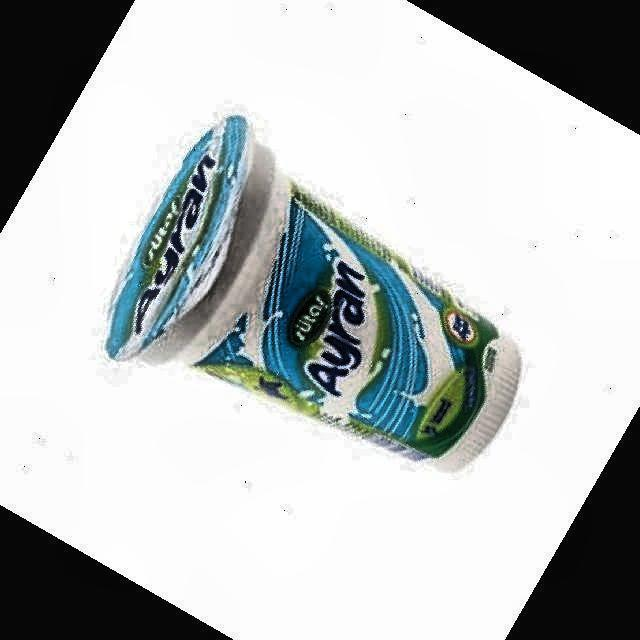plastic: (108, 118, 521, 471)
